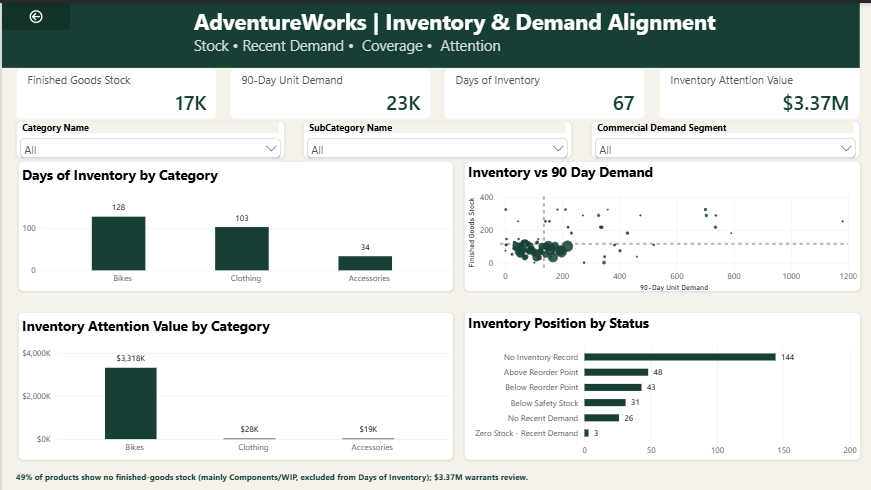

The page's visual inventory and layout, read from the dashboard file:
{"tool":"powerbi","page":{"name":"Inventory & Demand Alignment","canvas":[1280,720],"ordinal":2},"visuals":[{"type":"shape","box":[0,0,1260,95],"z":0},{"type":"textbox","box":[282.5,5,1042.5,85],"z":1000},{"type":"slicer","fields":{"Values":["DimProductCategory.Category Name"]},"box":[20,173,395,55],"z":2000},{"type":"cardVisual","fields":{"Data":["_Measures.Finished Goods Stock"]},"box":[20,95,295,75],"z":3000},{"type":"slicer","fields":{"Values":["DimProductSubCategory.SubCategory Name"]},"box":[442,173.5,395,55],"z":4000},{"type":"clusteredColumnChart","title":"Days of Inventory by Category","fields":{"Category":["DimProductCategory.Category Name"],"Y":["_Measures.Days of Inventory"]},"box":[23.3,231.7,640,191.7],"z":5000},{"type":"slicer","fields":{"Values":["DimProduct.Commercial Demand Segment"]},"box":[865,173.5,395,55],"z":6000},{"type":"scatterChart","title":"Inventory vs 90 Day Demand","fields":{"Category":["DimProduct.Name"],"Size":["_Measures.Sales Revenue"],"X":["_Measures.90-Day Unit Demand"],"Y":["_Measures.Finished Goods Stock"]},"box":[678.9,232.2,583.3,192.2],"z":7000},{"type":"cardVisual","fields":{"Data":["_Measures.90-Day Unit Demand"]},"box":[335,95,295,75],"z":8000},{"type":"cardVisual","fields":{"Data":["_Measures.Days of Inventory"]},"box":[650,95,295,75],"z":9000},{"type":"textbox","box":[20,686.7,1231.1,24.4],"z":10000},{"type":"cardVisual","fields":{"Data":["_Measures.Inventory Attention Value"]},"box":[965,95,295,75],"z":11000},{"type":"actionButton","box":[0,0,100,40],"z":12000},{"type":"clusteredColumnChart","title":"Inventory Attention Value by Category","fields":{"Category":["DimProductCategory.Category Name"],"Y":["_Measures.Inventory Attention Value"]},"box":[23.3,453.3,640,217.8],"z":13000},{"type":"barChart","title":"Inventory Position by Status","fields":{"Category":["DimProduct.Inventory Position Status"],"Y":["CountNonNull(DimProduct.ProductID)"]},"box":[678.9,453.3,583,217.8],"z":14000}]}

Visuals, with their boxes in screenshot pixels (x1, y1, x2, y2), scaled from the page's 1280x720 canvas onto the 871x490 screenshot:
shape: rect(0, 0, 857, 65)
textbox: rect(192, 3, 870, 61)
slicer - DimProductCategory.Category Name: rect(14, 118, 282, 155)
cardVisual - _Measures.Finished Goods Stock: rect(14, 65, 214, 116)
slicer - DimProductSubCategory.SubCategory Name: rect(301, 118, 570, 156)
"Days of Inventory by Category" clusteredColumnChart: rect(16, 158, 451, 288)
slicer - DimProduct.Commercial Demand Segment: rect(589, 118, 857, 156)
"Inventory vs 90 Day Demand" scatterChart: rect(462, 158, 859, 289)
cardVisual - _Measures.90-Day Unit Demand: rect(228, 65, 429, 116)
cardVisual - _Measures.Days of Inventory: rect(442, 65, 643, 116)
textbox: rect(14, 467, 851, 484)
cardVisual - _Measures.Inventory Attention Value: rect(657, 65, 857, 116)
actionButton: rect(0, 0, 68, 27)
"Inventory Attention Value by Category" clusteredColumnChart: rect(16, 308, 451, 457)
"Inventory Position by Status" barChart: rect(462, 308, 859, 457)
